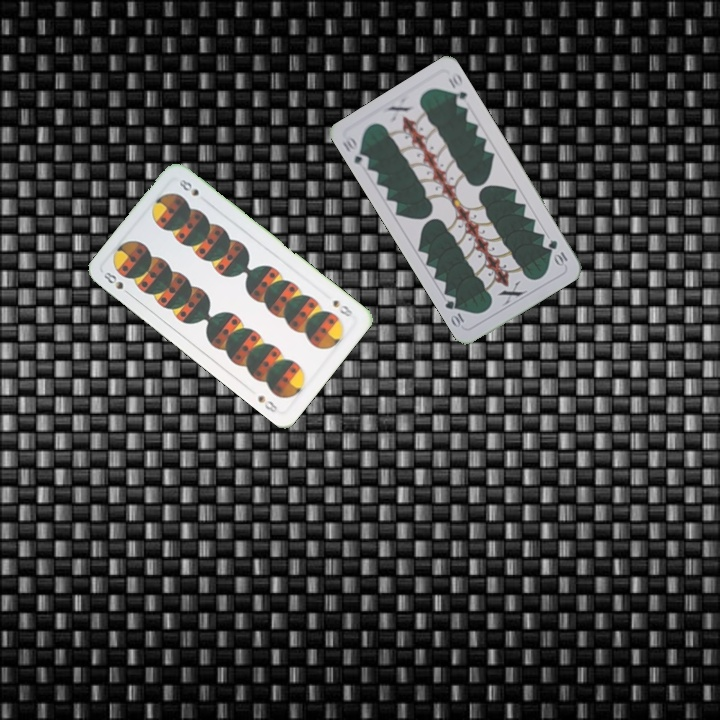G10: (338, 132, 372, 171), (544, 236, 570, 269)
S8: (100, 268, 135, 299), (329, 296, 358, 319)
